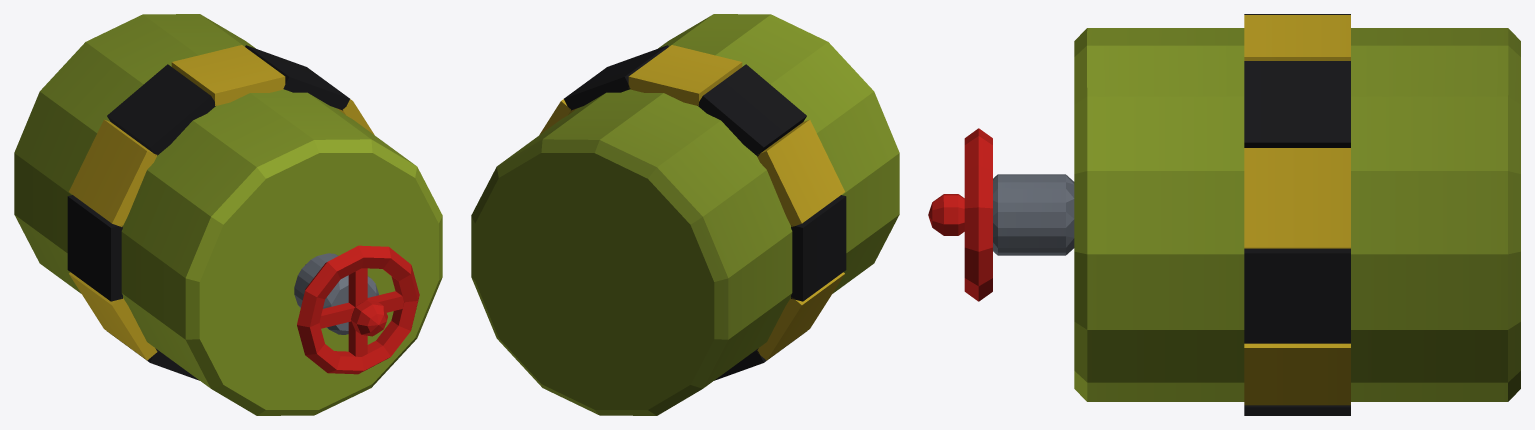
The model's file is gas.glb.
3 renders of one model, left to right at view 1: azimuth 30°, elevation 25°; view 2: azimuth 150°, elevation 25°; view 3: azimuth 270°, elevation 25°, orthographic. The views are drawn at different scales.
Visible parts, largest first — view 1: gas; view 2: gas; view 3: gas.
Boxes of the visible parts, bbox=[...] form: gas: bbox=[14, 14, 442, 415]; gas: bbox=[471, 14, 899, 415]; gas: bbox=[928, 14, 1520, 415].
Size of the model in its own units: 0.1858 by 0.1858 by 0.2788.
